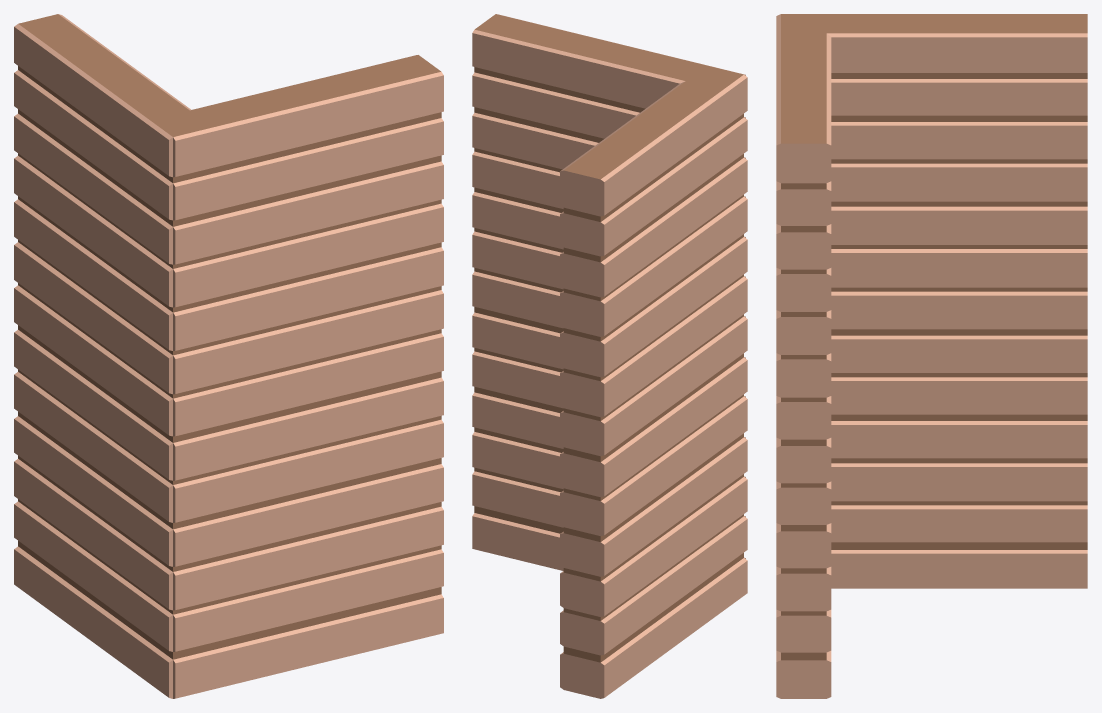
File: HorizontalBoardCorner.glb
3 renders of one model, left to right at view 1: azimuth 30°, elevation 25°; view 2: azimuth 150°, elevation 25°; view 3: azimuth 270°, elevation 25°, orthographic. The views are drawn at different scales.
Parts seen in each view (by area): view 1: wall_horizontalBoard_corner; view 2: wall_horizontalBoard_corner; view 3: wall_horizontalBoard_corner.
Part boxes in pixels (bbox=[...]): wall_horizontalBoard_corner: bbox=[14, 14, 443, 698]; wall_horizontalBoard_corner: bbox=[472, 14, 747, 698]; wall_horizontalBoard_corner: bbox=[776, 14, 1087, 698].
Size of what is drawn, in the model's own units: 2.03 by 4 by 2.03.
Materials: 1 (1 with a texture image).
